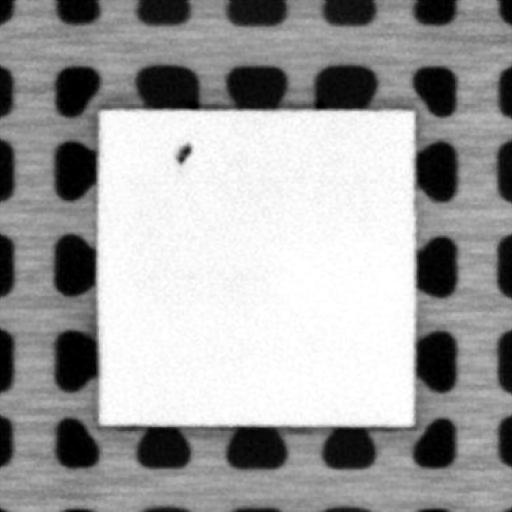DIE_INK: (174, 138, 192, 165)
